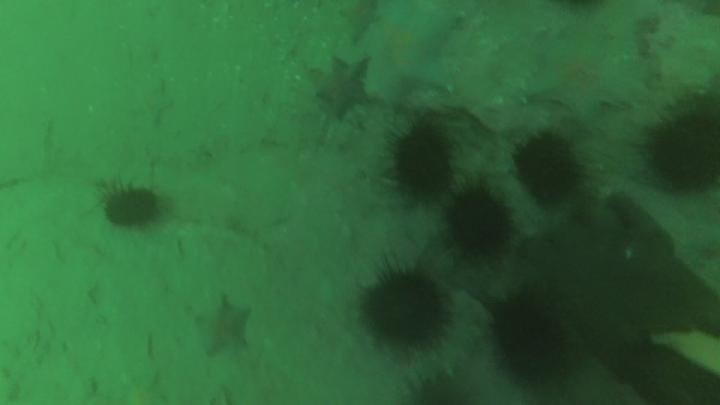echinus: (488, 294, 575, 388), (359, 268, 449, 349), (643, 110, 719, 195), (387, 122, 457, 200), (512, 132, 583, 205), (443, 186, 514, 259), (98, 179, 164, 231), (399, 369, 478, 404)
holothurian: (398, 309, 485, 395)
starfish: (522, 31, 643, 122), (362, 4, 462, 104), (310, 55, 373, 121), (192, 294, 255, 359), (99, 366, 170, 405), (128, 79, 175, 130), (337, 1, 384, 44)
